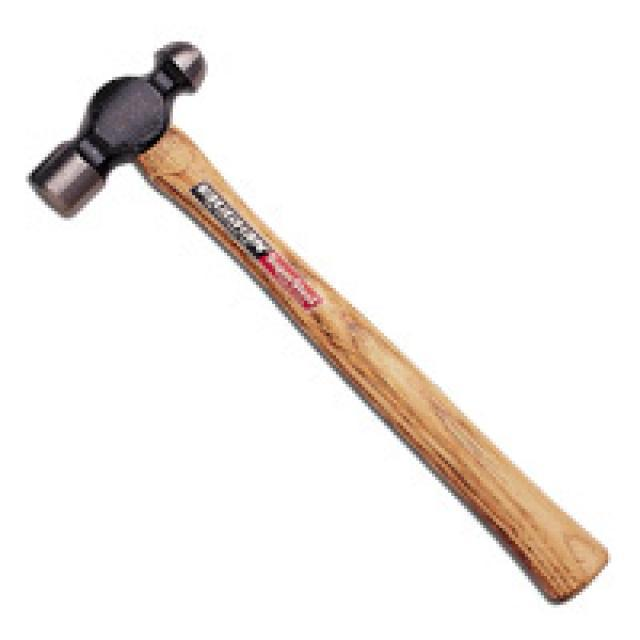hammer: (24, 33, 613, 606)
